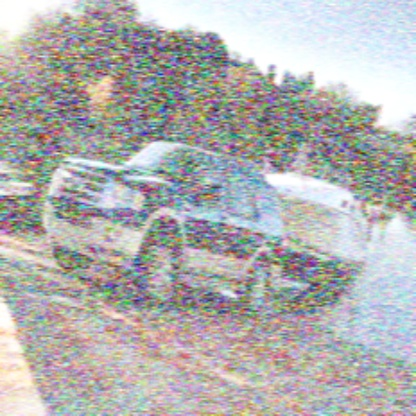Vehicle: (44, 137, 290, 321)
